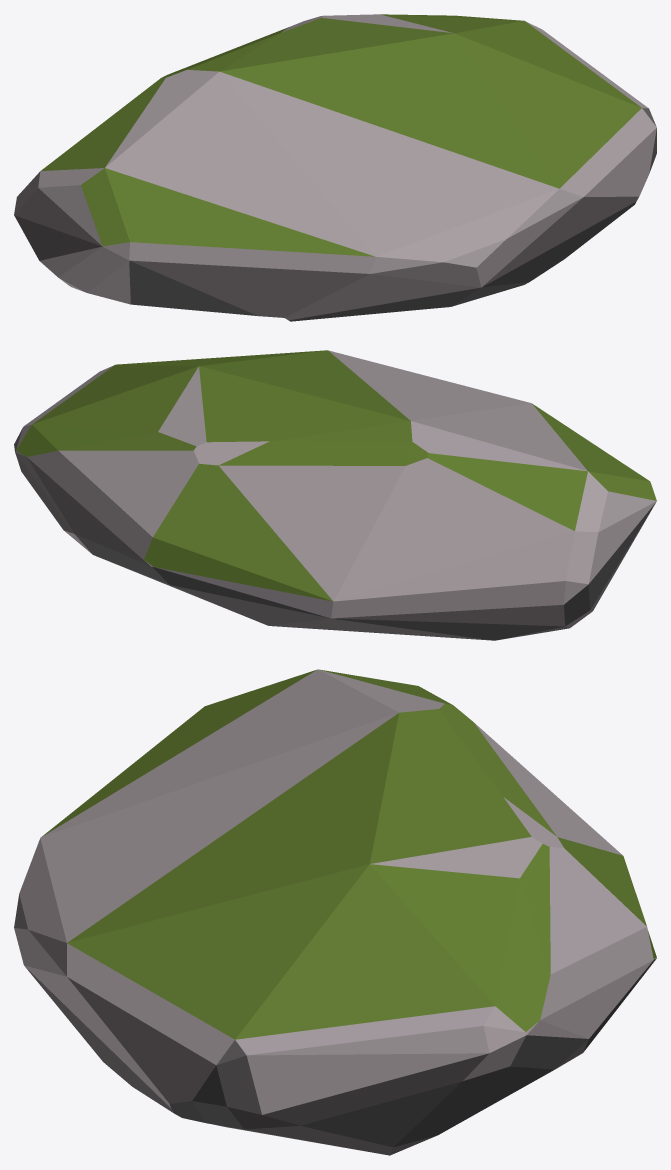
File: shore_rock_c.glb
3 views of the same model, one above another, from view 1: azimuth 30°, elevation 25°; view 2: azimuth 150°, elevation 25°; view 3: azimuth 270°, elevation 25° (orthographic). The views are drawn at different scales.
Visible parts, largest first — view 1: stone_dry, moss_wet, stone_wet; view 2: stone_dry, moss_wet, stone_wet; view 3: moss_wet, stone_dry, stone_wet.
Boxes of the visible parts, x1,y1,x2,y2 form: stone_dry: [14, 14, 656, 320]; moss_wet: [41, 14, 641, 256]; stone_wet: [14, 108, 656, 321]; stone_dry: [14, 350, 656, 628]; moss_wet: [16, 350, 656, 601]; stone_wet: [15, 453, 655, 640]; moss_wet: [42, 669, 656, 1039]; stone_dry: [14, 669, 656, 1114]; stone_wet: [25, 958, 656, 1155].
Size of the model in its own units: 1.37 by 0.4249 by 1.03.
